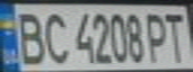0: (109, 9, 130, 64)
2: (90, 8, 112, 64)
4: (69, 8, 93, 64)
8: (124, 9, 148, 63)
B: (9, 8, 48, 65)
C: (39, 8, 72, 64)
P: (145, 9, 172, 63)
T: (160, 9, 190, 63)
